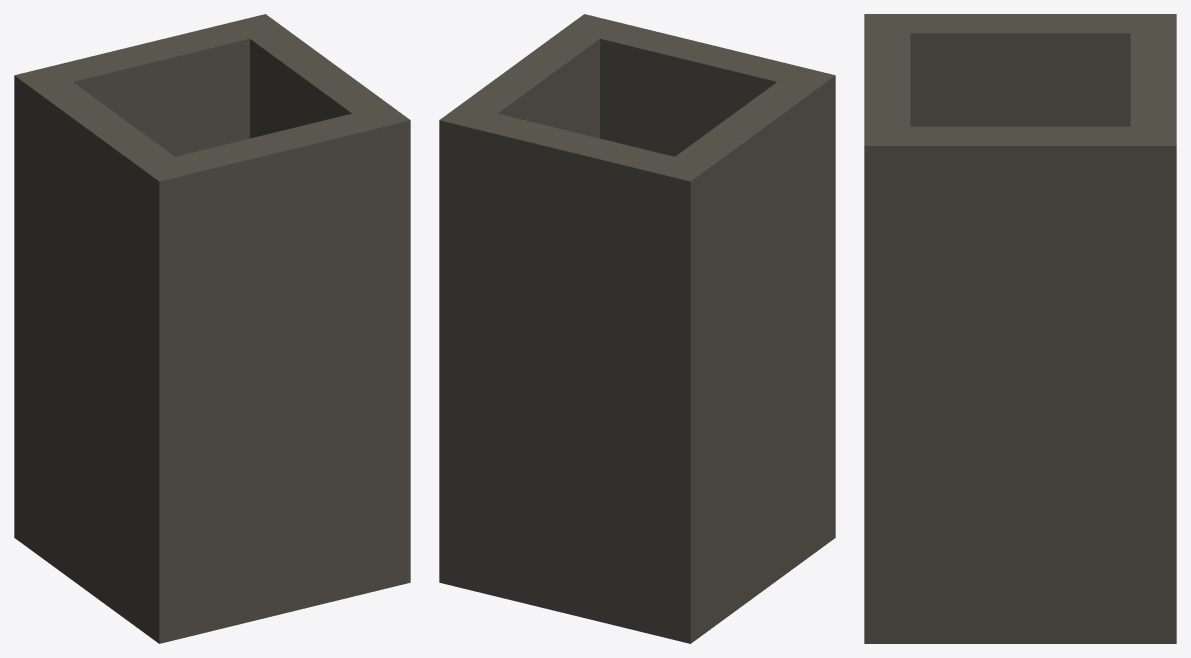
The model's file is CityGarbageCan.fbx.
3 views of the same model, side by side, from view 1: azimuth 30°, elevation 25°; view 2: azimuth 150°, elevation 25°; view 3: azimuth 270°, elevation 25° (orthographic). The views are drawn at different scales.
Visible parts, largest first — view 1: CityGarbageCan; view 2: CityGarbageCan; view 3: CityGarbageCan.
Boxes of the visible parts, left/top/right/bottom form: CityGarbageCan: left=14, top=14, right=410, bottom=643; CityGarbageCan: left=439, top=14, right=835, bottom=643; CityGarbageCan: left=864, top=14, right=1176, bottom=643.
Bounding box in the file's own units: 0.0528 × 0.0928 × 0.0528.
